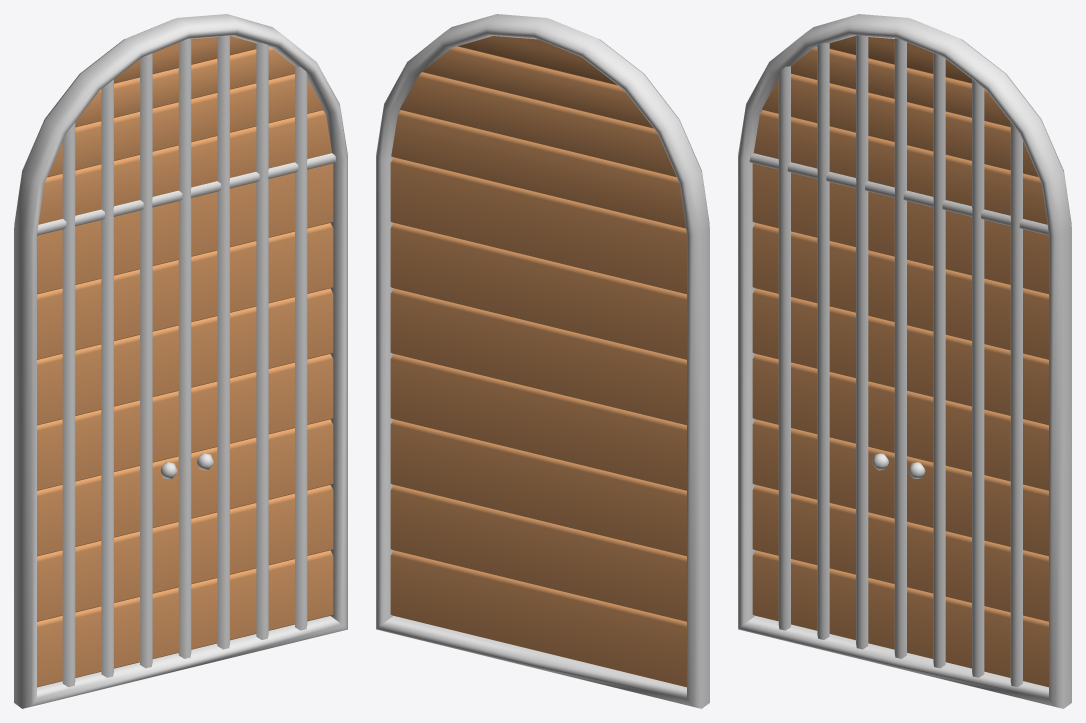
File: SP_House09_Door01.fbx
The picture shows the model from 3 angles, left to right: view 1: azimuth 30°, elevation 25°; view 2: azimuth 150°, elevation 25°; view 3: azimuth 330°, elevation 25°; orthographic projection.
Visible parts, largest first — view 1: SP_House09_Door01; view 2: SP_House09_Door01; view 3: SP_House09_Door01.
Boxes of the visible parts, x1,y1,x2,y2 form: SP_House09_Door01: (14,14,347,708); SP_House09_Door01: (376,14,709,708); SP_House09_Door01: (738,14,1071,708).
Size of the model in its own units: 1.55 by 2.93 by 0.158.
